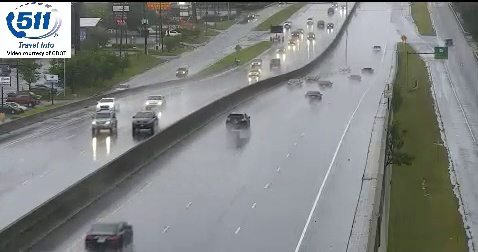car: (84, 222, 133, 252), (226, 113, 250, 131), (304, 90, 322, 103)
